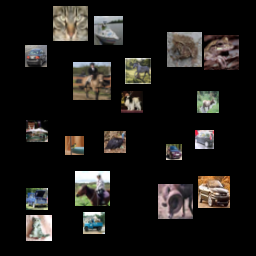airplane: (201, 114, 236, 149), (48, 1, 77, 30), (54, 185, 83, 214), (121, 79, 147, 105)
automobile: (57, 130, 92, 165), (8, 191, 30, 213)
bird: (191, 83, 217, 109), (176, 6, 202, 32)
deer: (18, 70, 56, 108)
dog: (167, 42, 199, 74), (139, 128, 165, 154), (30, 117, 56, 143)
frog: (138, 191, 170, 223), (202, 46, 234, 78), (193, 195, 219, 221), (100, 137, 119, 156)
